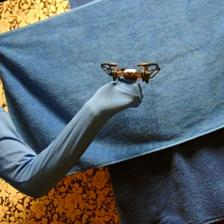drone: (98, 61, 163, 86)
